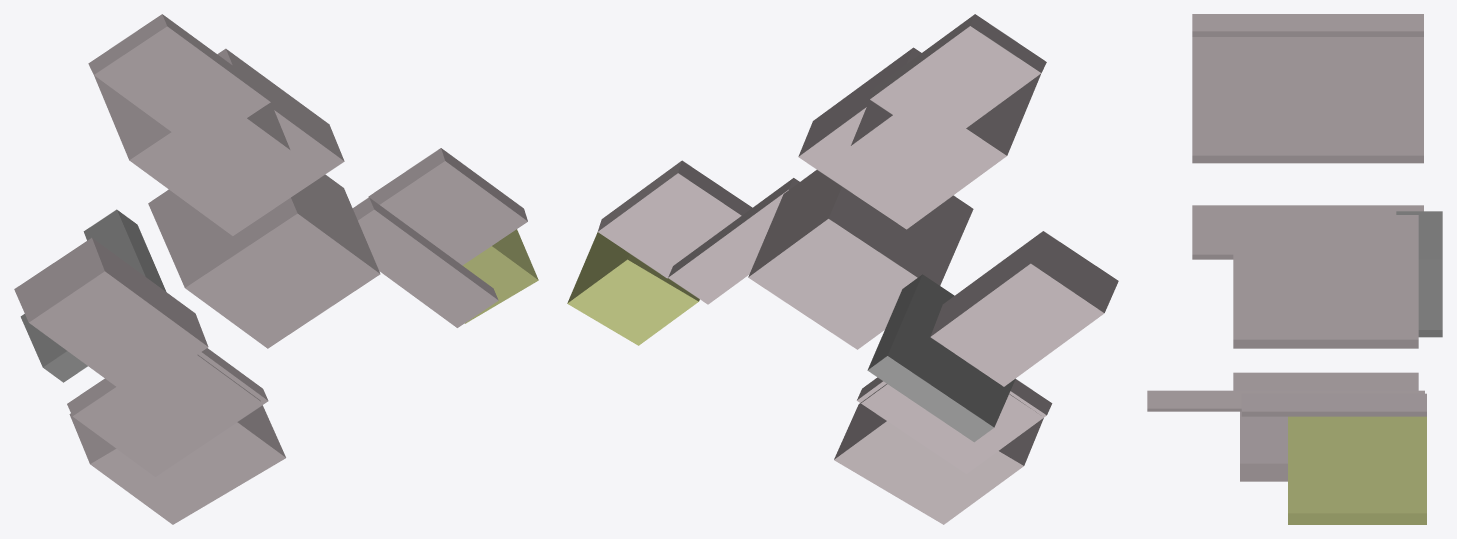
3 renders of one model, left to right at view 1: azimuth 30°, elevation 25°; view 2: azimuth 150°, elevation 25°; view 3: azimuth 270°, elevation 25°, orthographic. The views are drawn at different scales.
Parts seen in each view (by area): view 1: 0_2_2_3_0_0_0_0_1; view 2: 0_2_2_3_0_0_0_0_1; view 3: 0_2_2_3_0_0_0_0_1.
Boxes of the visible parts, <box> form: 0_2_2_3_0_0_0_0_1: <box>14,14,538,524</box>; 0_2_2_3_0_0_0_0_1: <box>567,14,1118,524</box>; 0_2_2_3_0_0_0_0_1: <box>1147,14,1442,524</box>.
Bounding box in the file's own units: 38.75 × 34.57 × 19.14.
